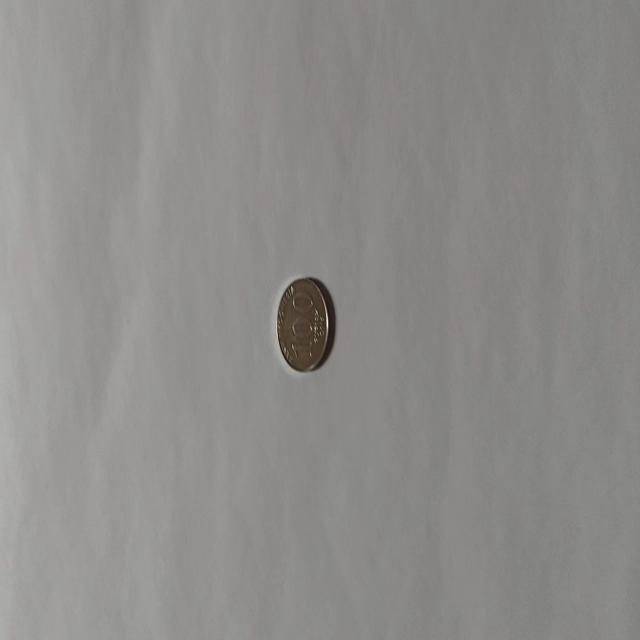seratus rupiah: (275, 276, 329, 372)
